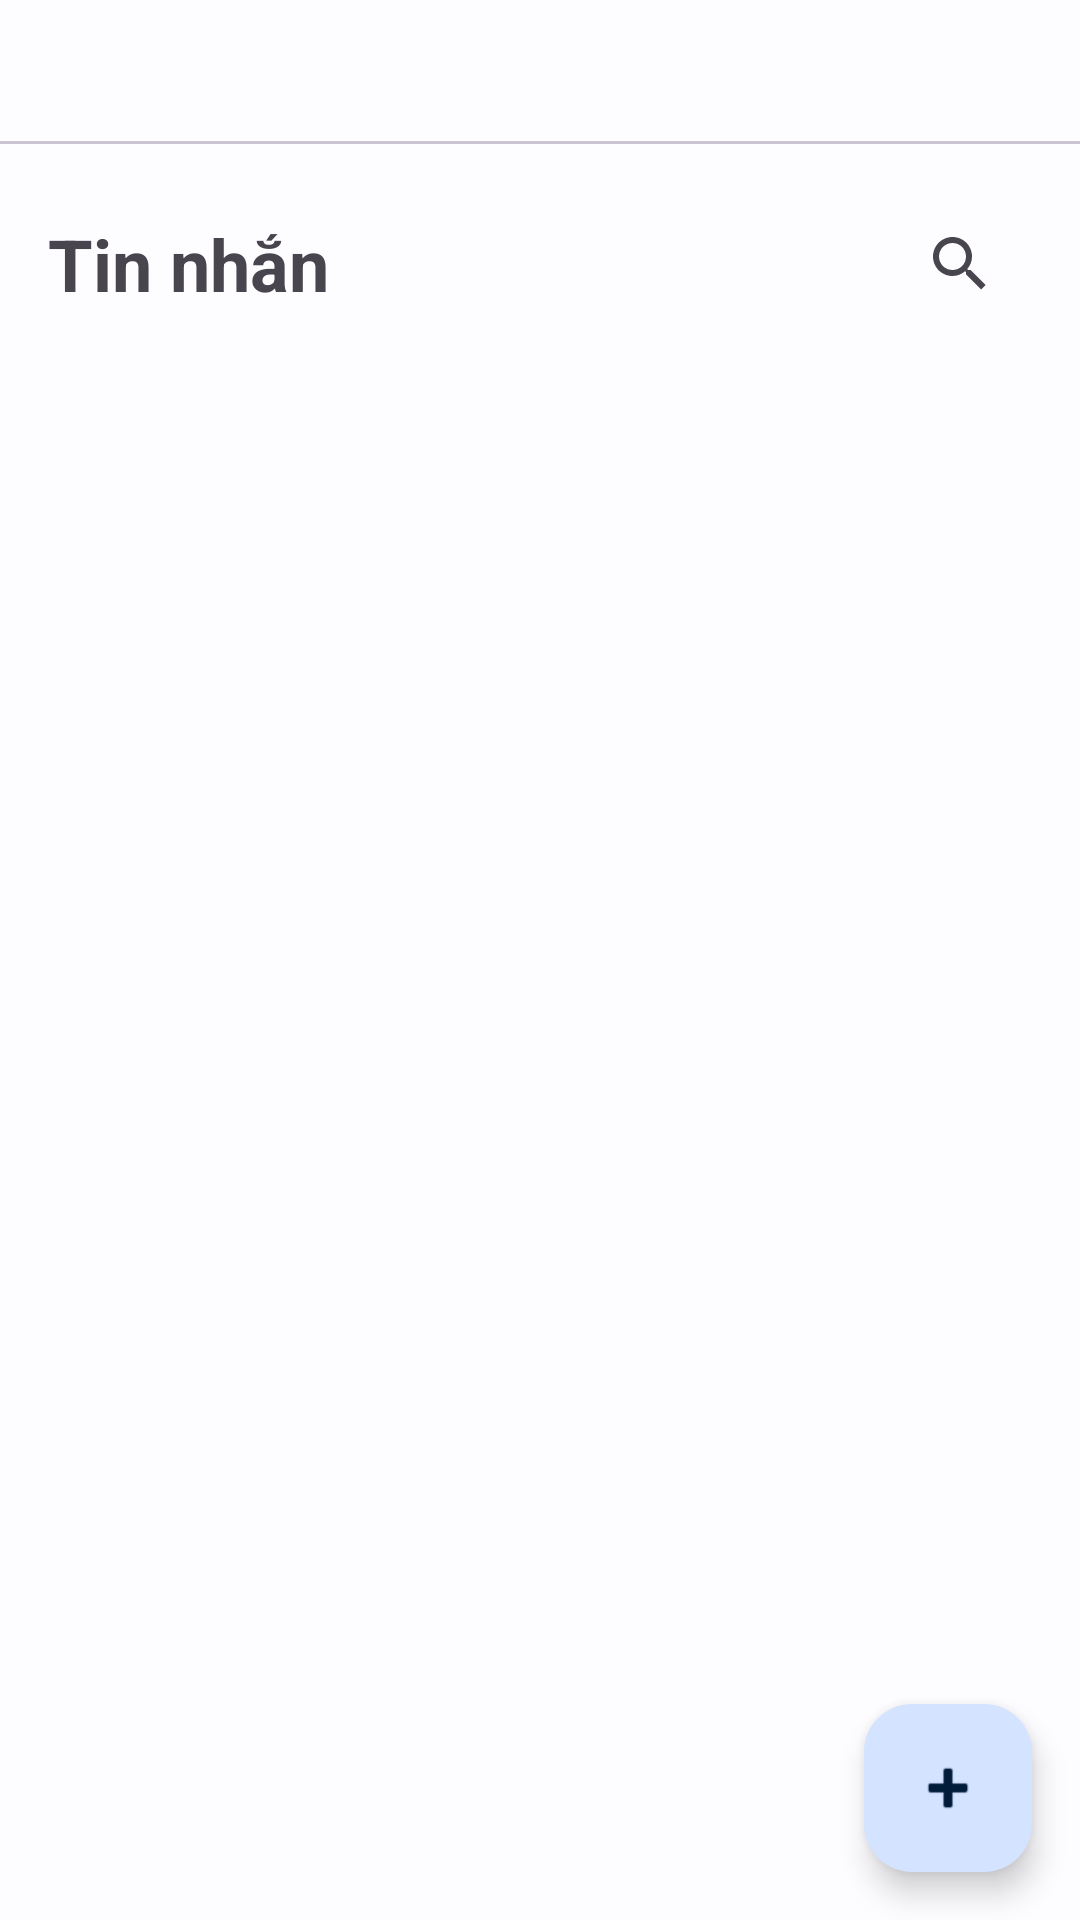

Icon click points for this 1080 × 1920 phone screenshot, format point (x, y):
Tin nhắn mới: point (948, 1788)
